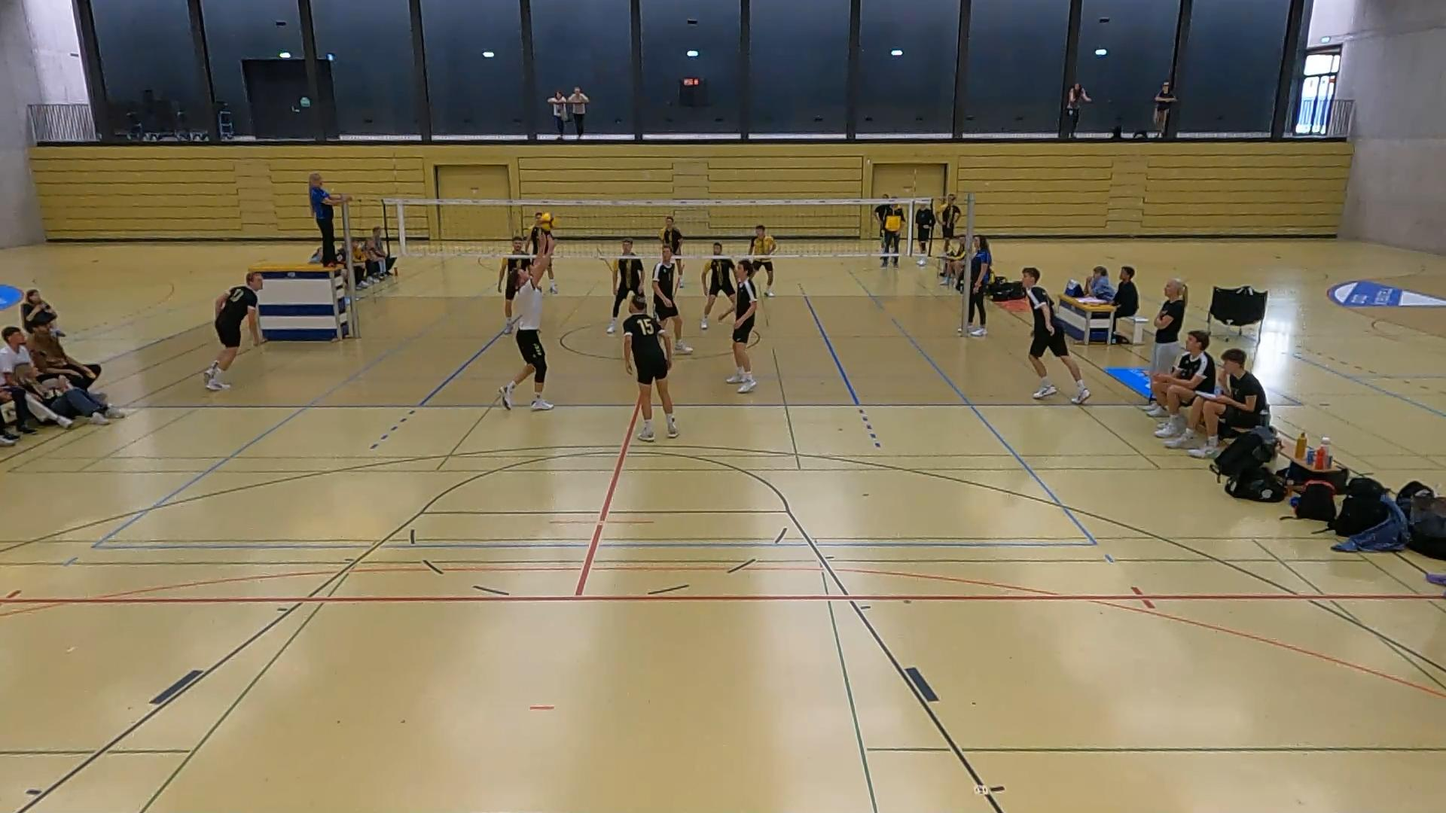Player: (1022, 267, 1090, 403), (624, 294, 678, 441), (203, 271, 263, 391), (651, 245, 691, 354), (726, 259, 758, 393), (607, 238, 643, 333), (497, 237, 531, 333), (700, 242, 734, 330), (532, 212, 557, 294), (749, 225, 776, 297), (660, 216, 683, 288)
Set: (496, 228, 561, 423)
ball: (535, 210, 563, 231)
